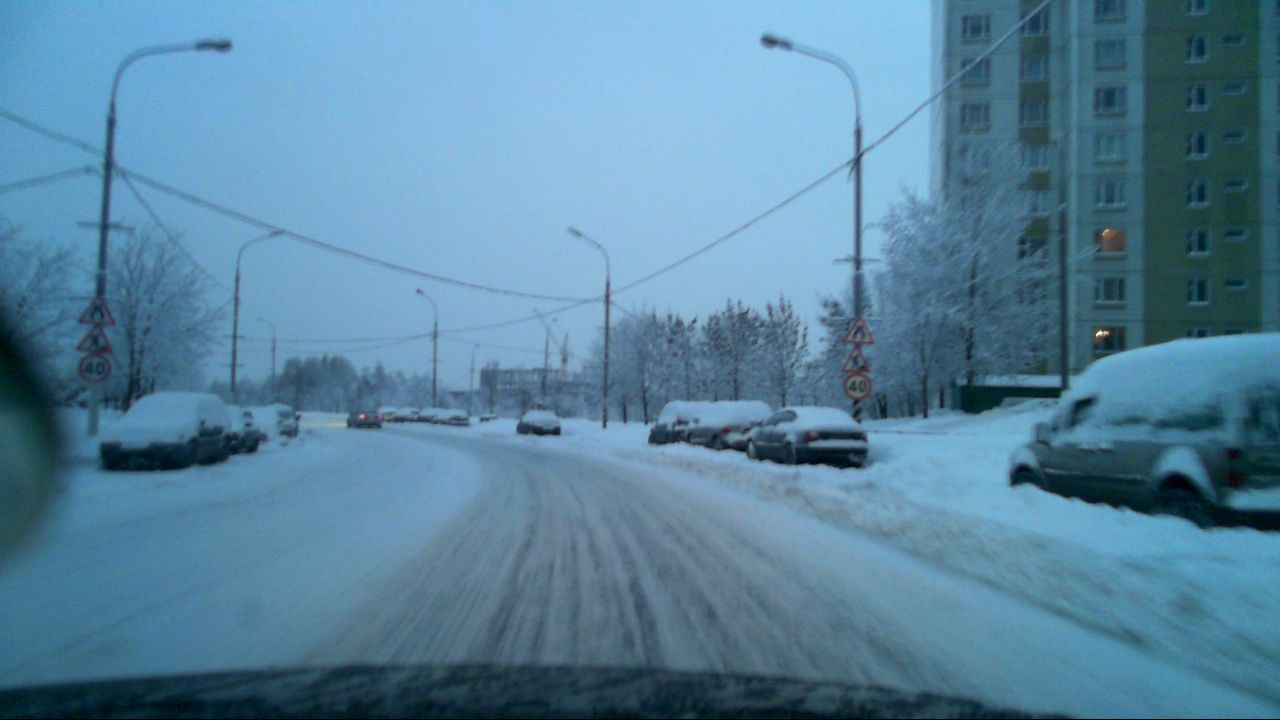speed_warning_40: (842, 370, 874, 400)
